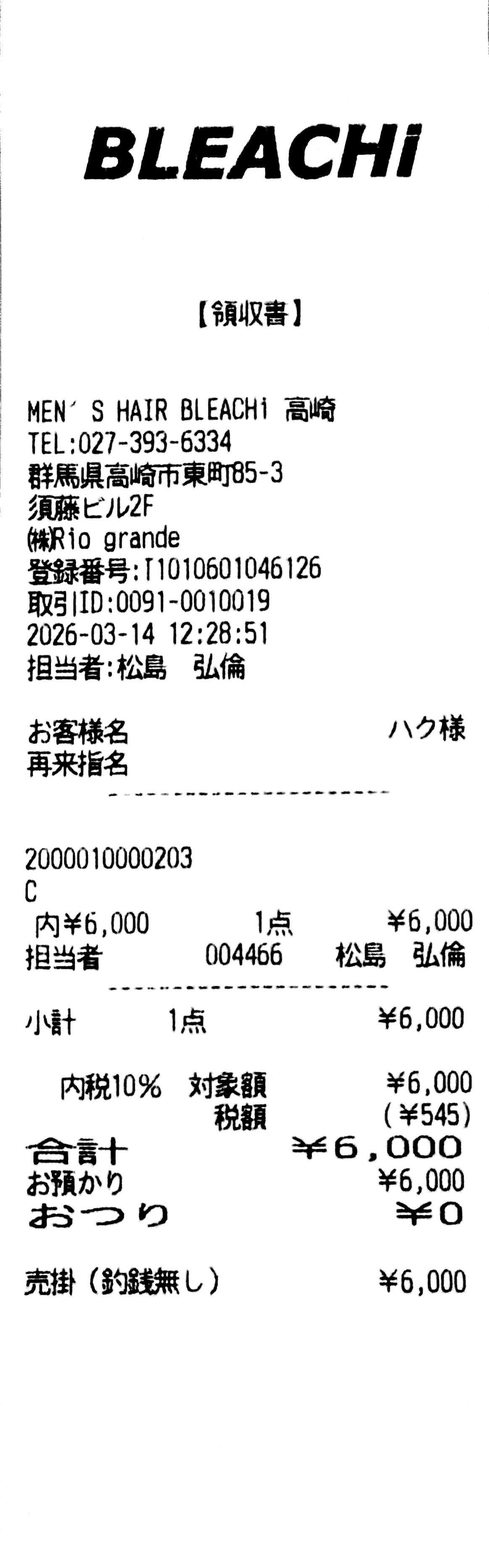Date: (27, 622, 156, 647)
Pay: (25, 1135, 463, 1166)
Shopname: (84, 123, 424, 179)
Telnum: (79, 429, 232, 454)
